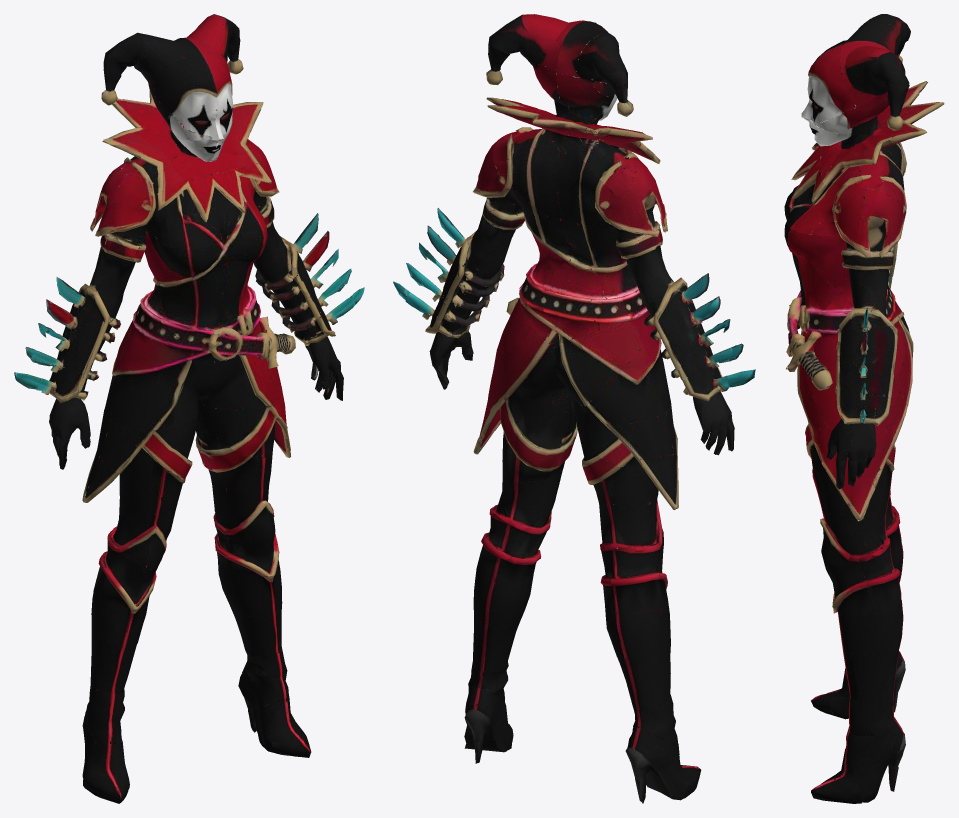
Rendered from 16_knife_harlequin.glb.
3 views of the same model, side by side, from view 1: azimuth 30°, elevation 25°; view 2: azimuth 150°, elevation 25°; view 3: azimuth 270°, elevation 25° (orthographic). The views are drawn at different scales.
Visible parts, largest first — view 1: mesh_node; view 2: mesh_node; view 3: mesh_node.
Boxes of the visible parts, left/top/right/bottom form: mesh_node: left=14, top=14, right=364, bottom=803; mesh_node: left=393, top=14, right=755, bottom=803; mesh_node: left=784, top=14, right=944, bottom=803.
Bounding box in the file's own units: 0.957 × 1.9 × 0.3837.
Materials: 1 (1 with a texture image).
